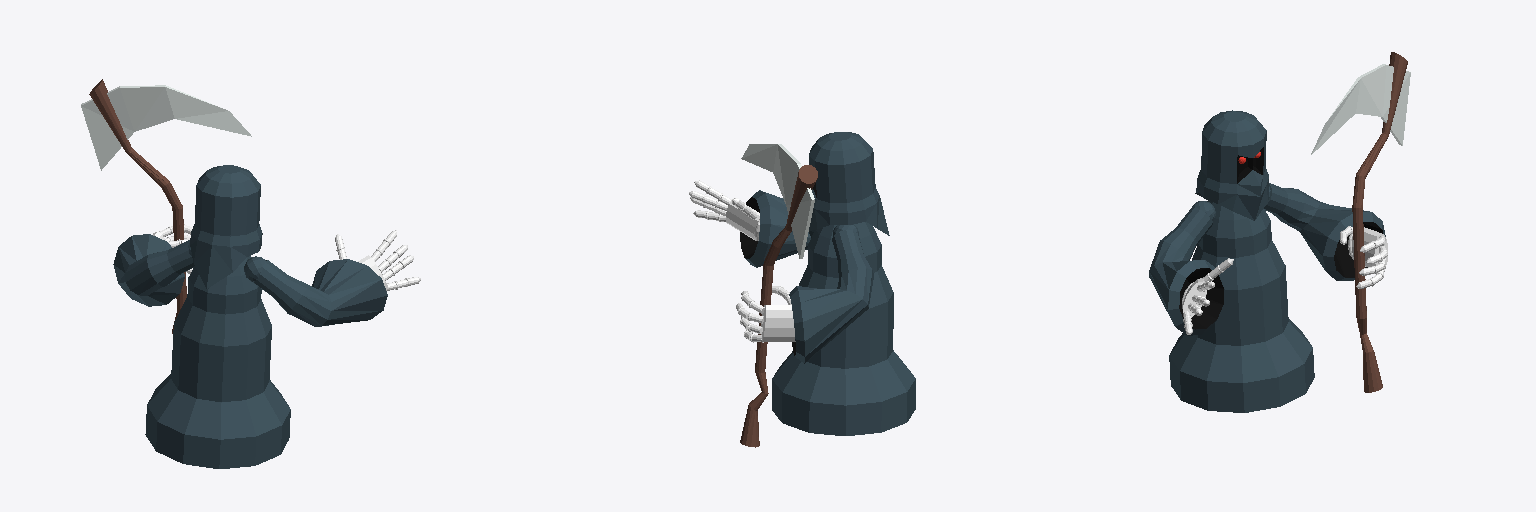
3 renders of one model, left to right at view 1: azimuth 30°, elevation 25°; view 2: azimuth 150°, elevation 25°; view 3: azimuth 270°, elevation 25°, orthographic.
Parts seen in each view (by area): view 1: group[number redacted]; view 2: group[number redacted]; view 3: group[number redacted].
Part boxes in pixels (x1,y1,x2,y2): group[number redacted]: (81,79,420,468); group[number redacted]: (689,132,915,447); group[number redacted]: (1149,52,1410,412).
Bounding box in the file's own units: 0.8913 × 1.12 × 0.846.